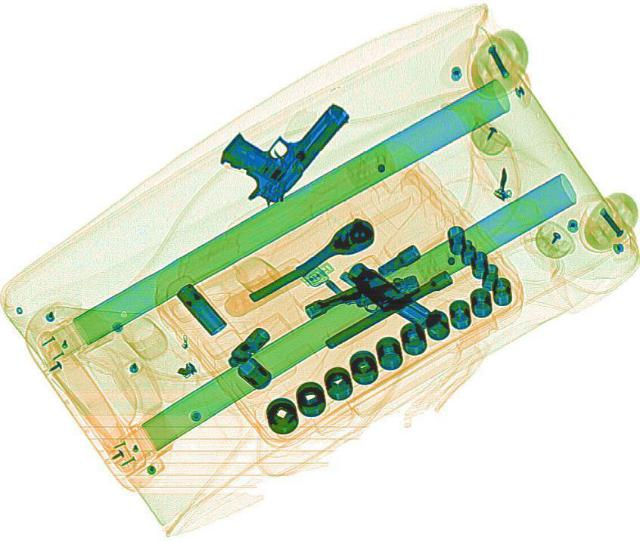Gun: (199, 76, 355, 210), (312, 271, 433, 344)
